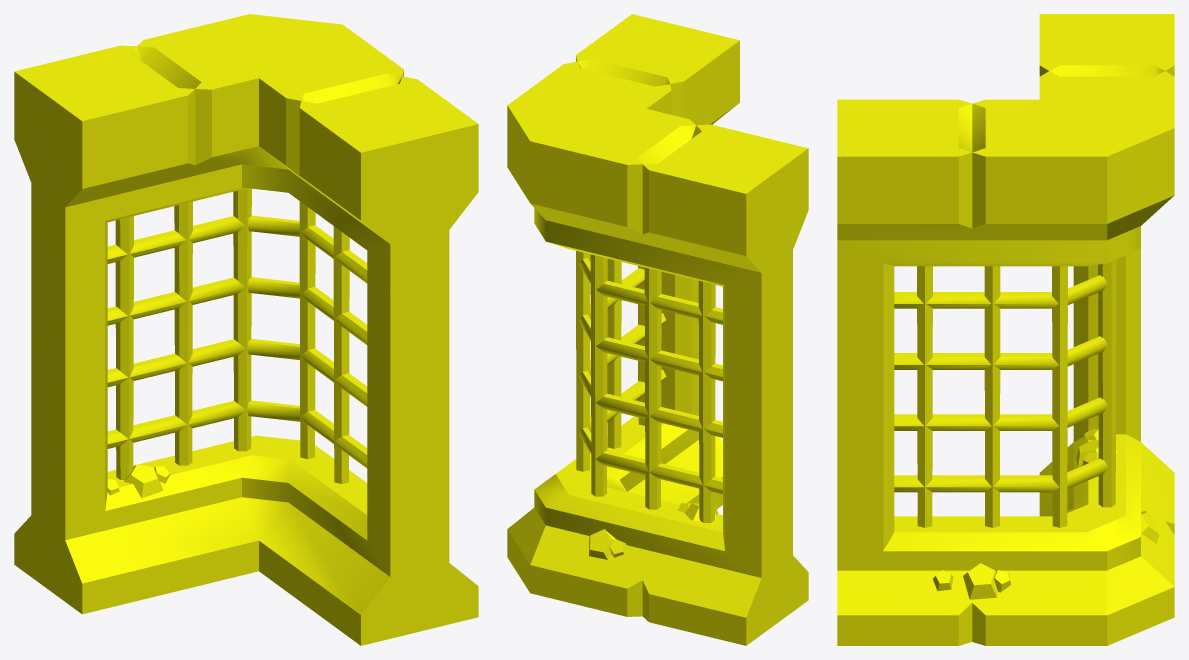
File: kaykit-wall-corner-gated.glb
3 renders of one model, left to right at view 1: azimuth 30°, elevation 25°; view 2: azimuth 150°, elevation 25°; view 3: azimuth 270°, elevation 25°, orthographic. The views are drawn at different scales.
Parts seen in each view (by area): view 1: wall_corner_gated; view 2: wall_corner_gated; view 3: wall_corner_gated.
Boxes of the visible parts, x1=… form: wall_corner_gated: x1=14, y1=14, x2=478, y2=645; wall_corner_gated: x1=507, y1=14, x2=808, y2=645; wall_corner_gated: x1=837, y1=14, x2=1174, y2=645.
Bounding box in the file's own units: 2.5 × 4 × 2.5.
